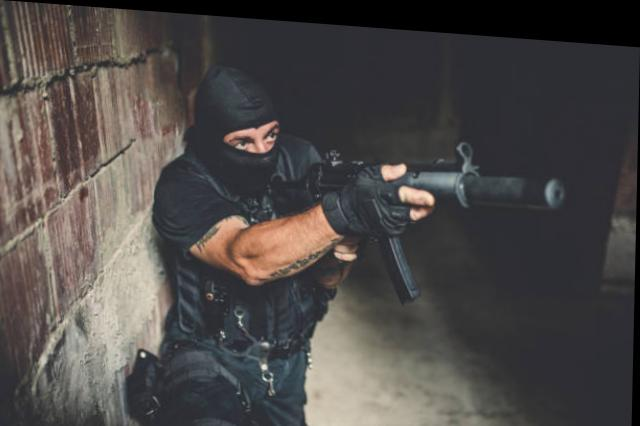other: (156, 75, 366, 420)
